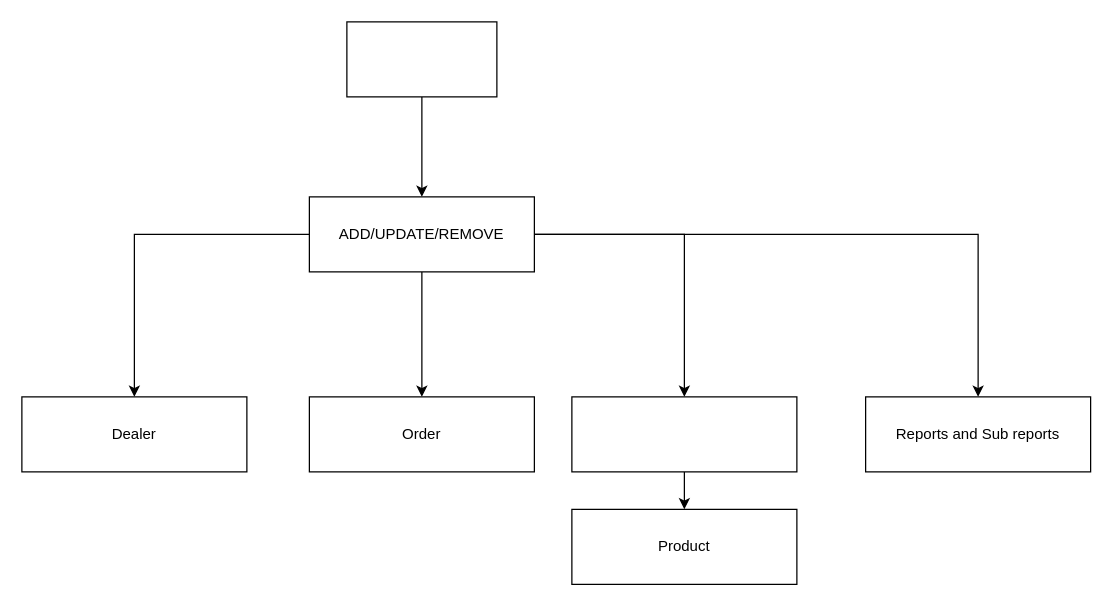
This 1113x606 diagram has some shape labels left out. Here are the shapes that lost their labels. From the top down, the centre of each, then its label:
point (421, 59): ADMIN
point (684, 434): Company
